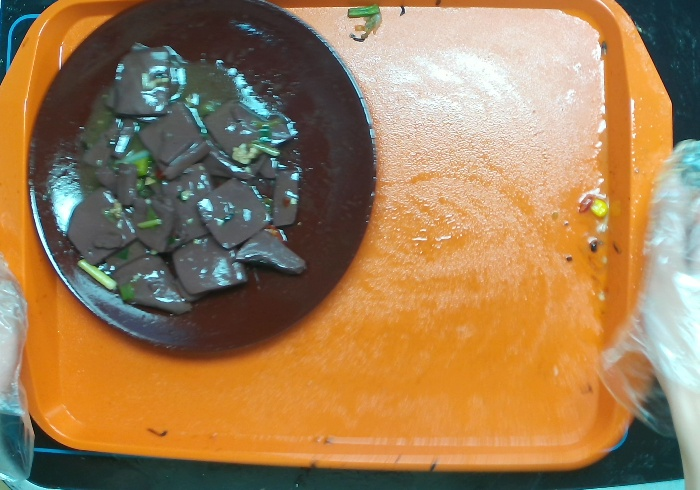HZYJPL-Ka_Fei_Yuan_Pan: (16, 1, 381, 364)
